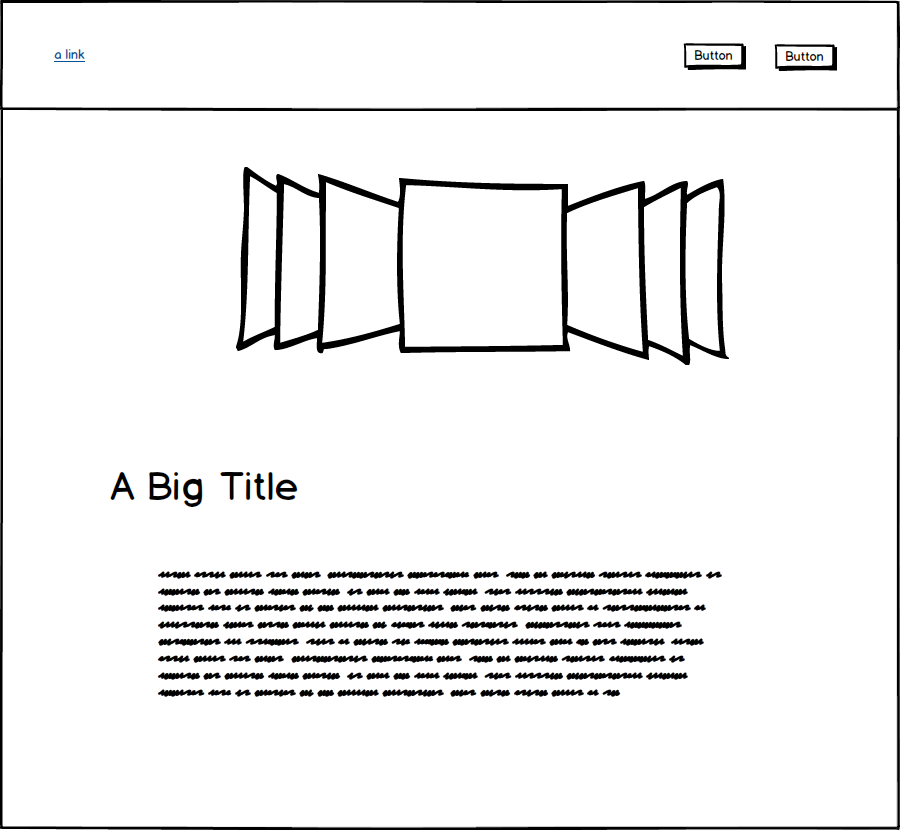button: (770, 42, 842, 76), (679, 40, 750, 72)
h1: (102, 453, 303, 512)
navlink: (44, 39, 90, 71)
p: (153, 562, 735, 707)
slideshow: (232, 161, 737, 373)
